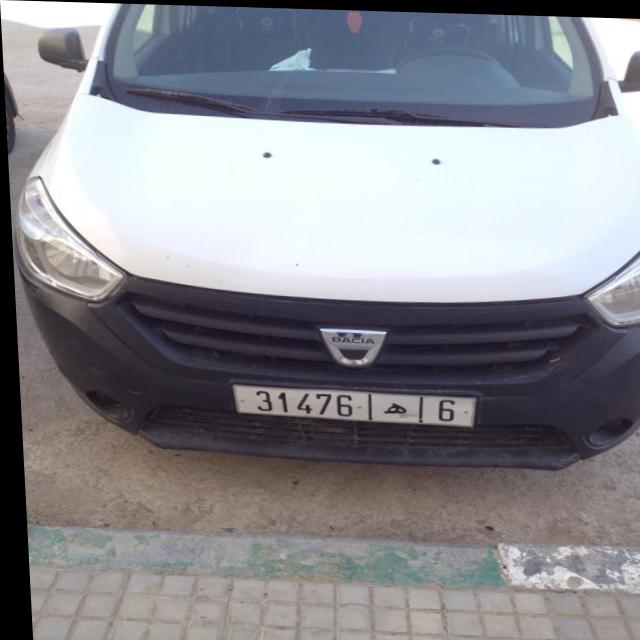License-Plate: (229, 384, 473, 424)
